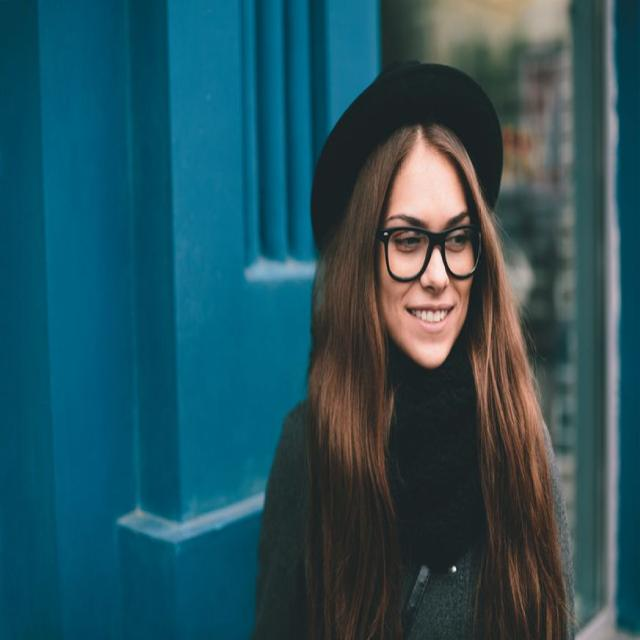human: (248, 46, 579, 640)
